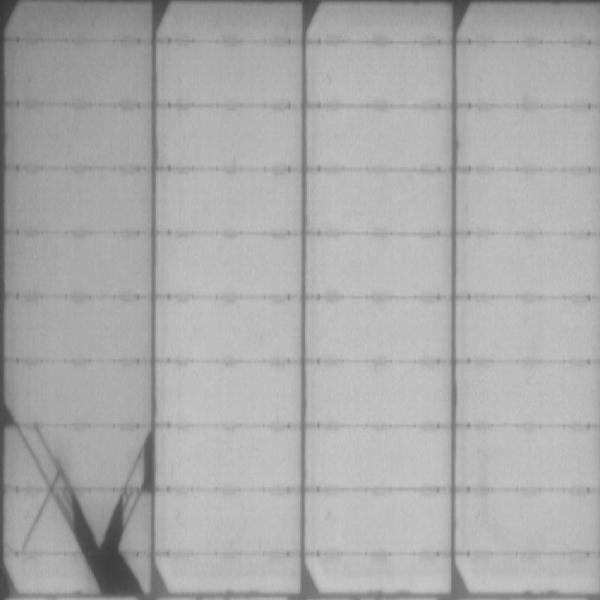broken: (1, 406, 156, 597)
